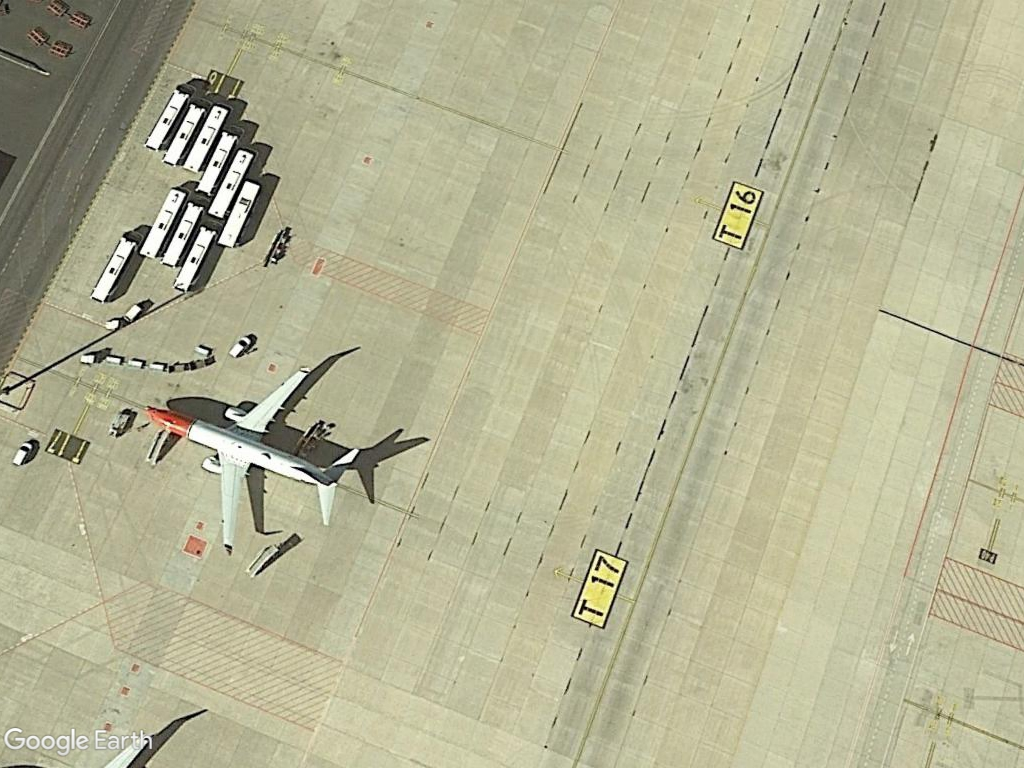airliner: (140, 352, 365, 555)
bus: (190, 121, 245, 201), (211, 173, 266, 252), (87, 229, 139, 308), (139, 183, 189, 262), (144, 82, 193, 158), (171, 223, 219, 297)
stairtruck: (242, 538, 279, 585)
van: (9, 435, 36, 471)
